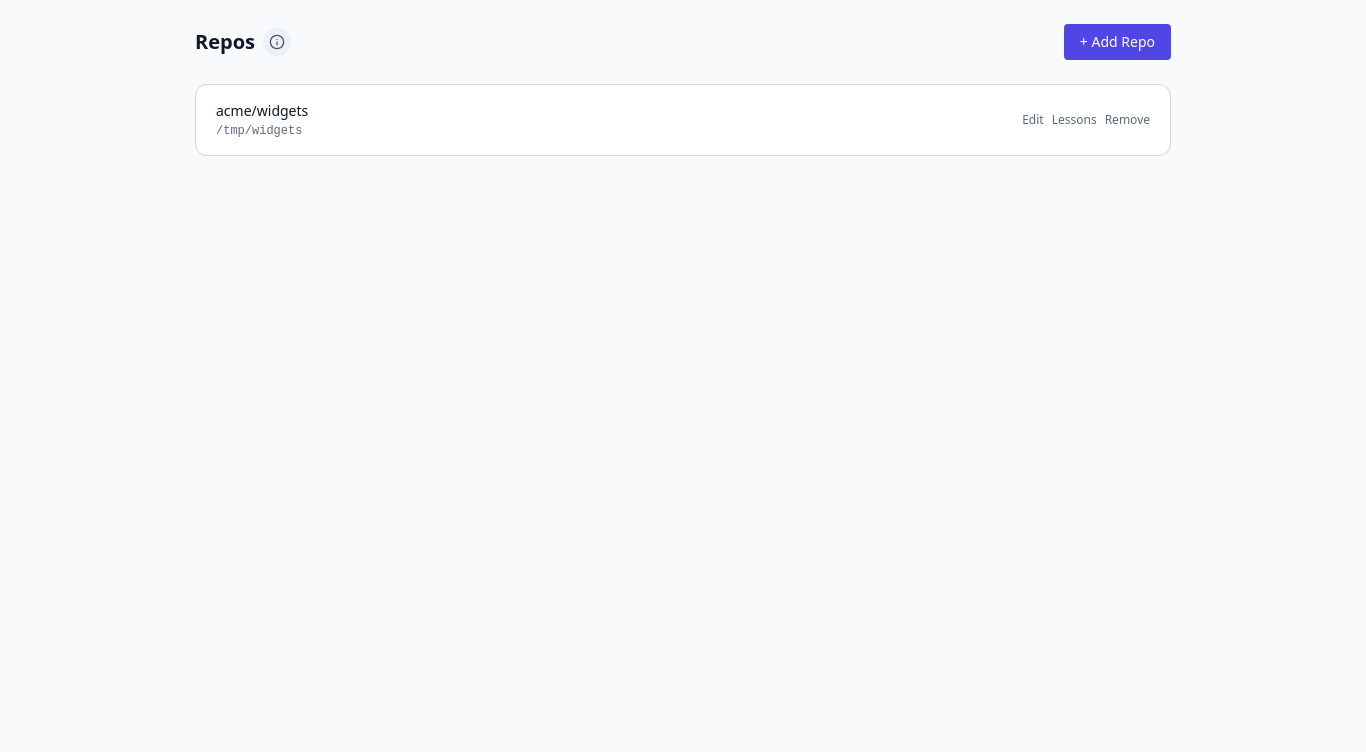
Scenario: ReposPage — Agent runtime section › detect fills rows from the mocked response and shows the source hint
Expected: the text "acme/widgets" is shown, [216,101,308,120]
Click the button "Edit" at (1033, 120), box [1022,112,1044,128]
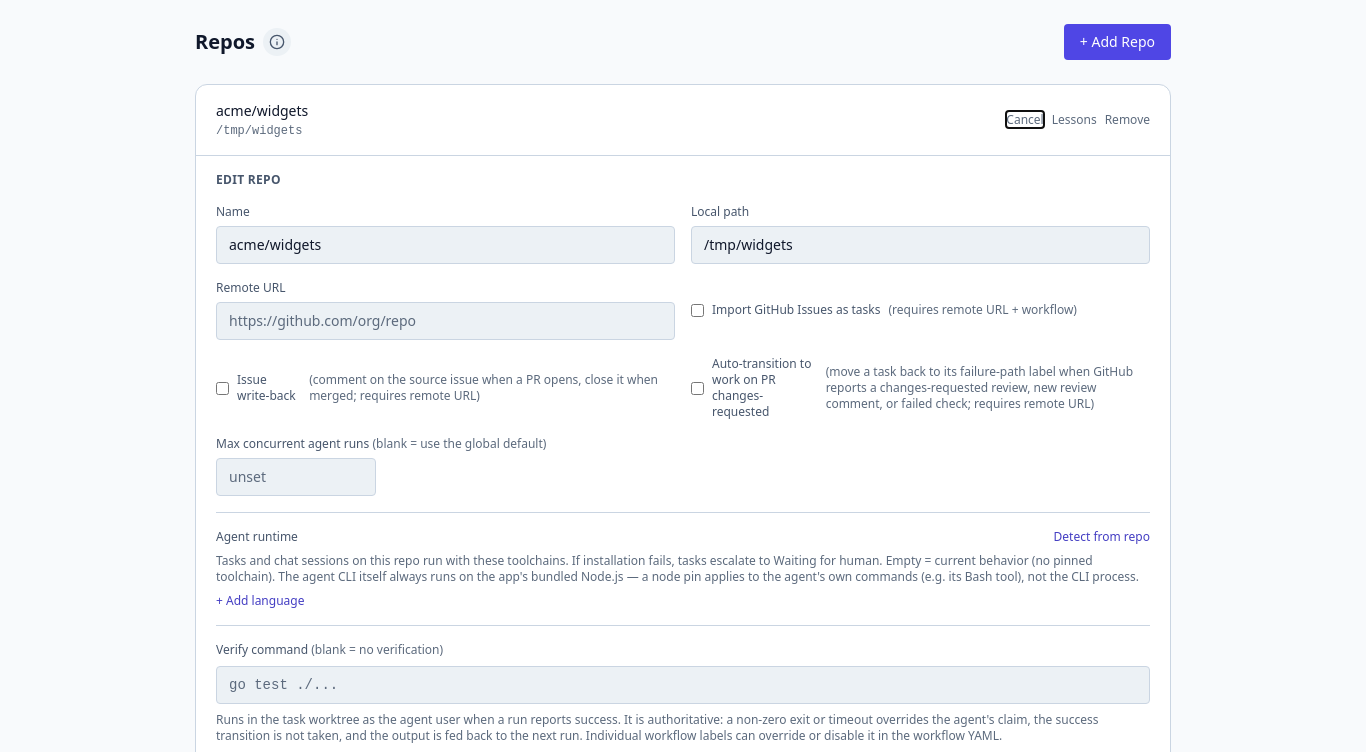
Click the button "Detect from repo" at (1102, 537), box [1054,529,1150,545]
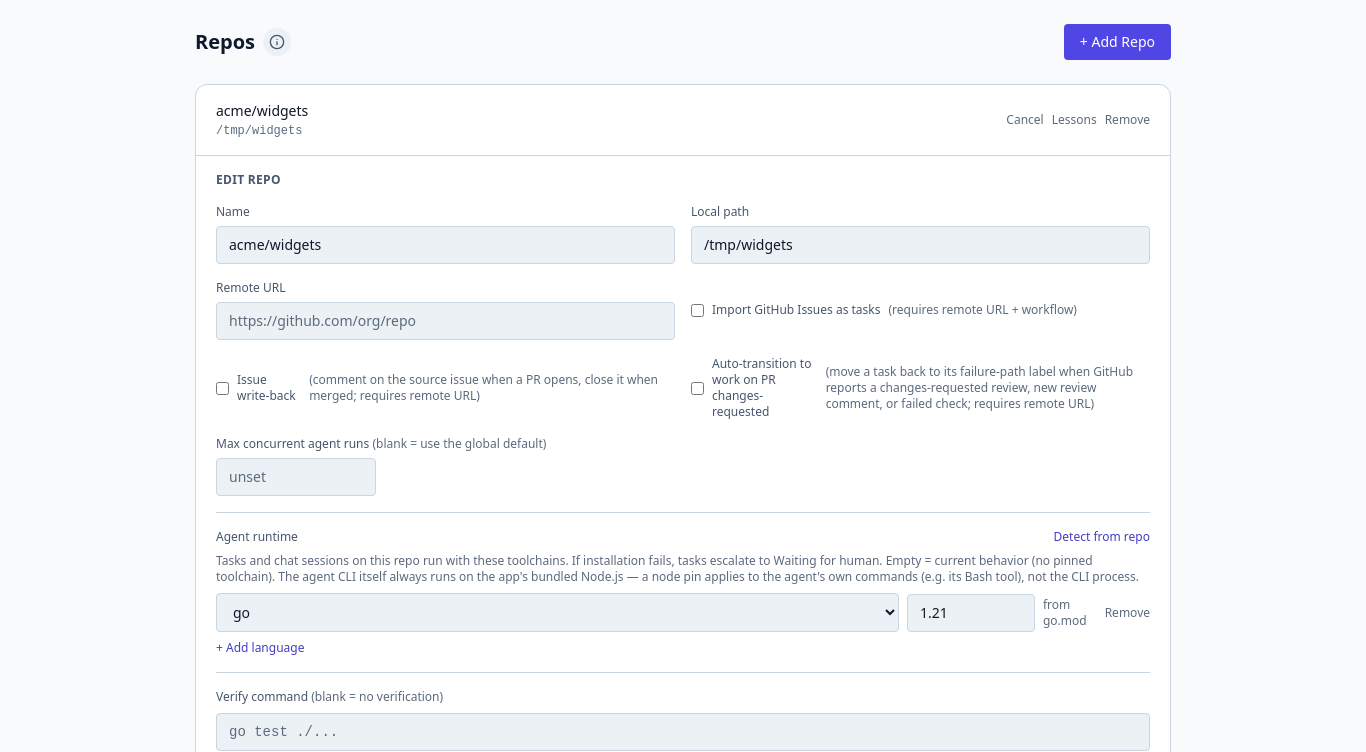
Expected: the text "from go.mod" is shown, [1043,596,1087,628]
